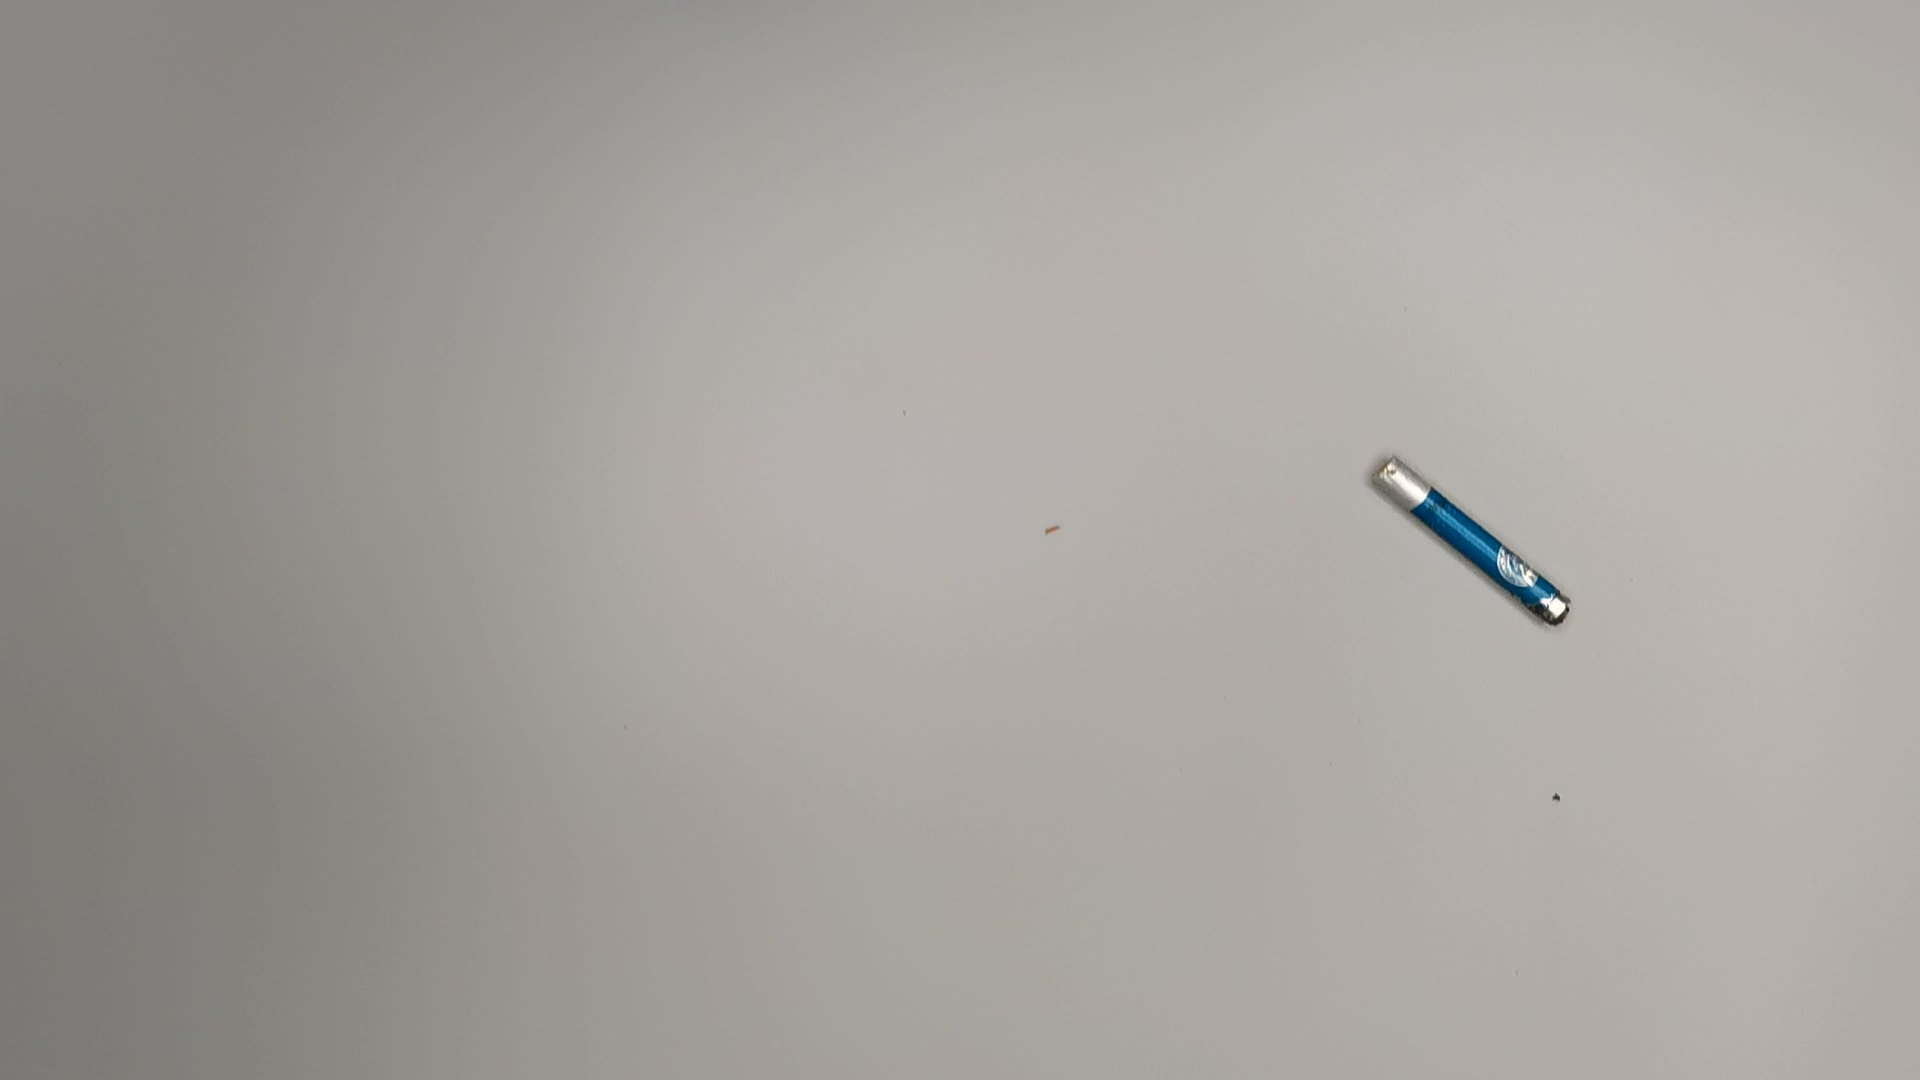cigarette: (1362, 454, 1578, 636)
